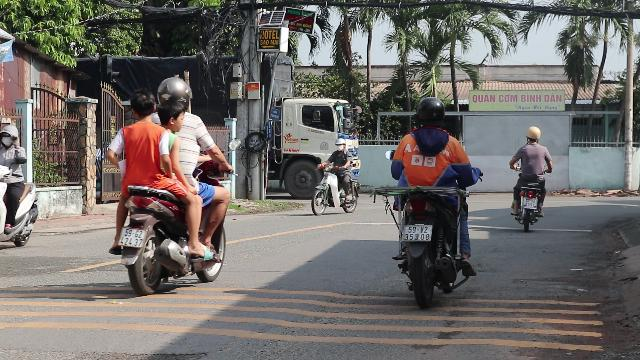helmet: (155, 77, 193, 107), (414, 96, 446, 128), (1, 121, 20, 147)
licenseplate: (119, 228, 147, 248), (403, 224, 431, 241)
motorcyclist: (105, 78, 232, 296), (382, 95, 480, 302), (1, 119, 42, 254)
nohelmet: (154, 100, 184, 136), (128, 92, 156, 122)
